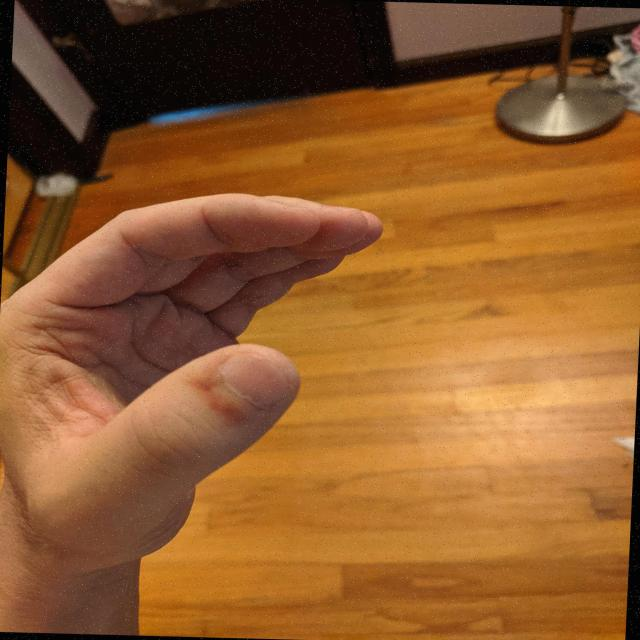C: (0, 181, 391, 581)
